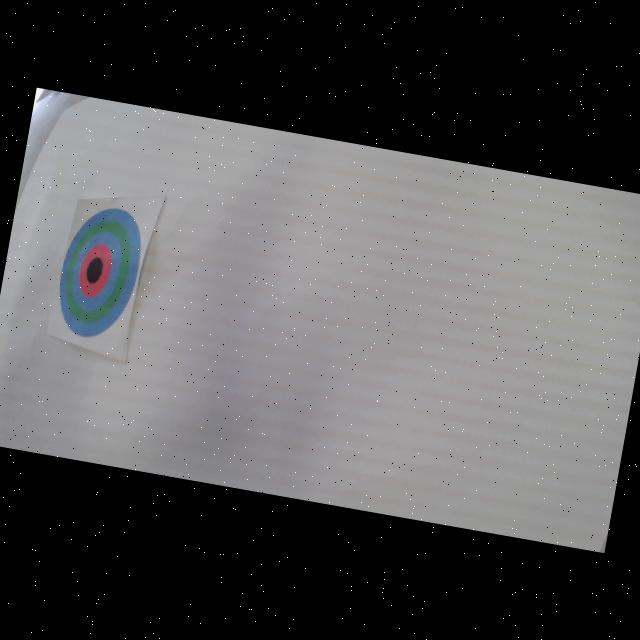COGNITIVE: (51, 200, 149, 344)
